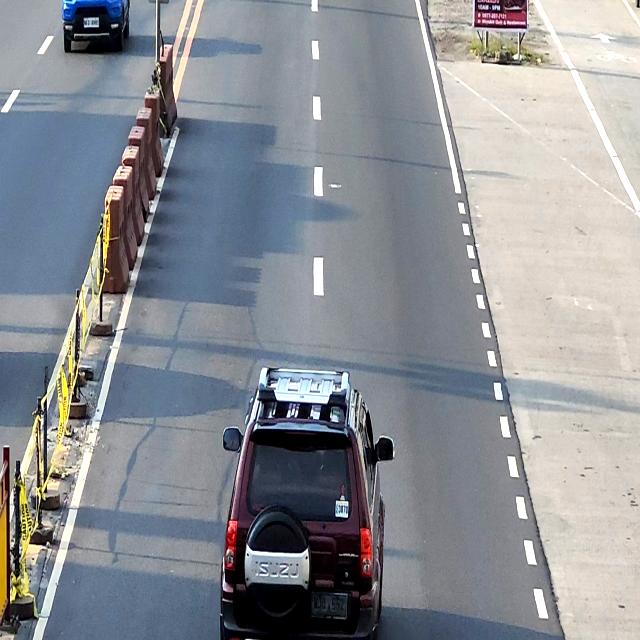Car: (221, 367, 394, 640), (62, 0, 130, 53)
License-Plate: (312, 592, 347, 617), (83, 18, 99, 28)
